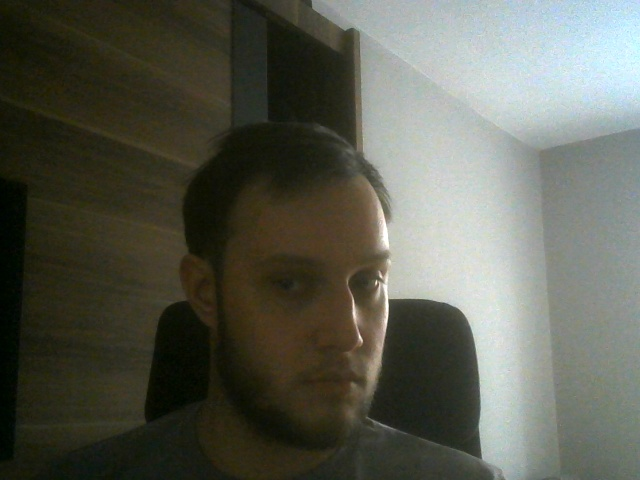neutral: (182, 126, 392, 443)
